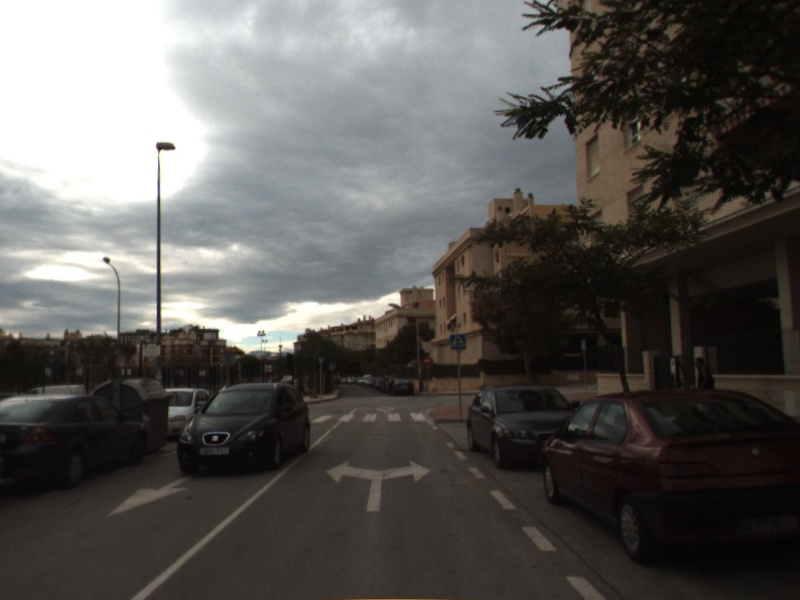LEFT_RIGHT: (324, 457, 433, 514)
